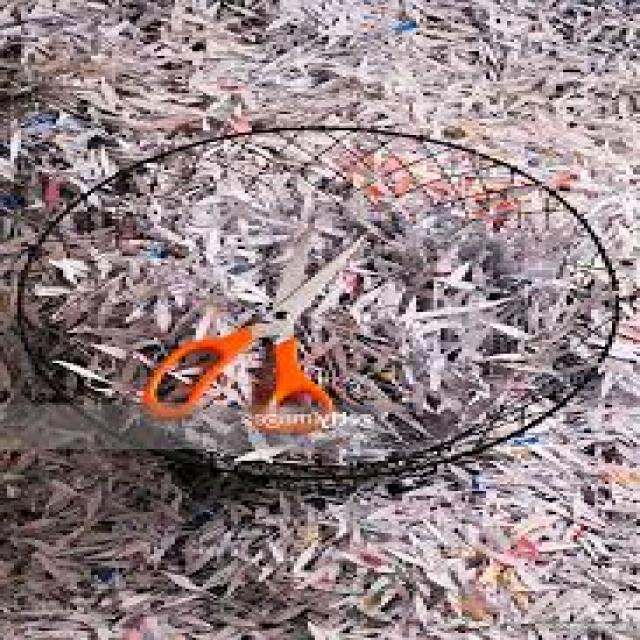paper: (3, 0, 640, 638), (56, 196, 528, 456)
